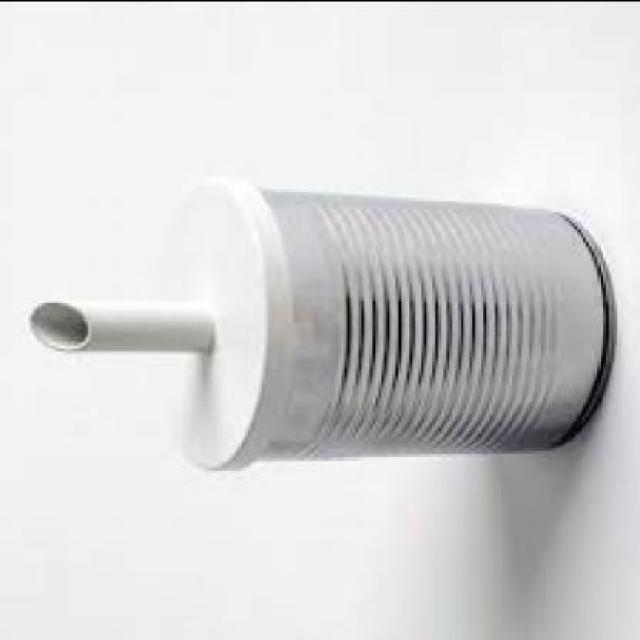METAL: (246, 196, 612, 461)
